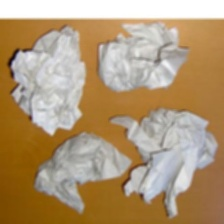tissue: (104, 102, 221, 222), (3, 21, 90, 140), (28, 128, 136, 220), (92, 19, 193, 96)
